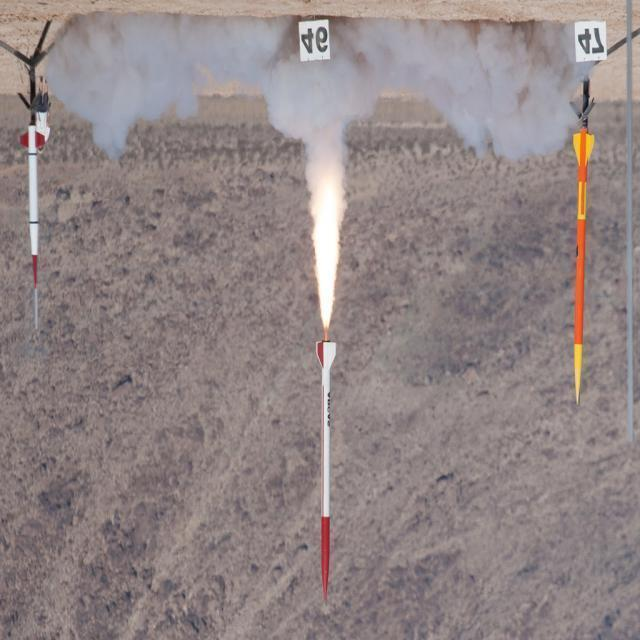missile: (308, 324, 352, 595), (564, 83, 596, 408), (15, 88, 53, 328)
